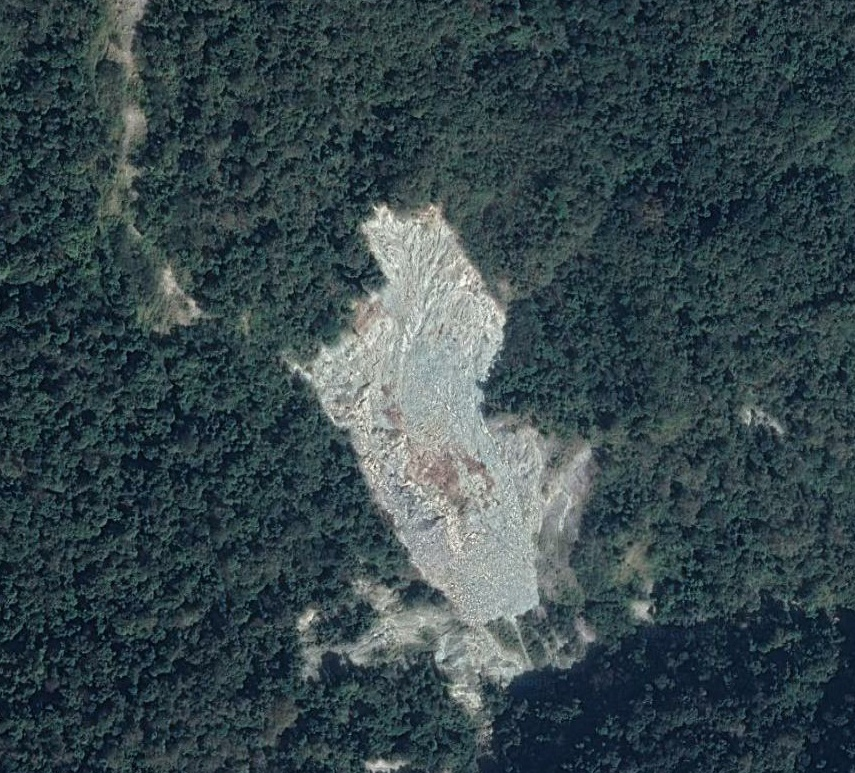slope: (277, 194, 597, 762)
